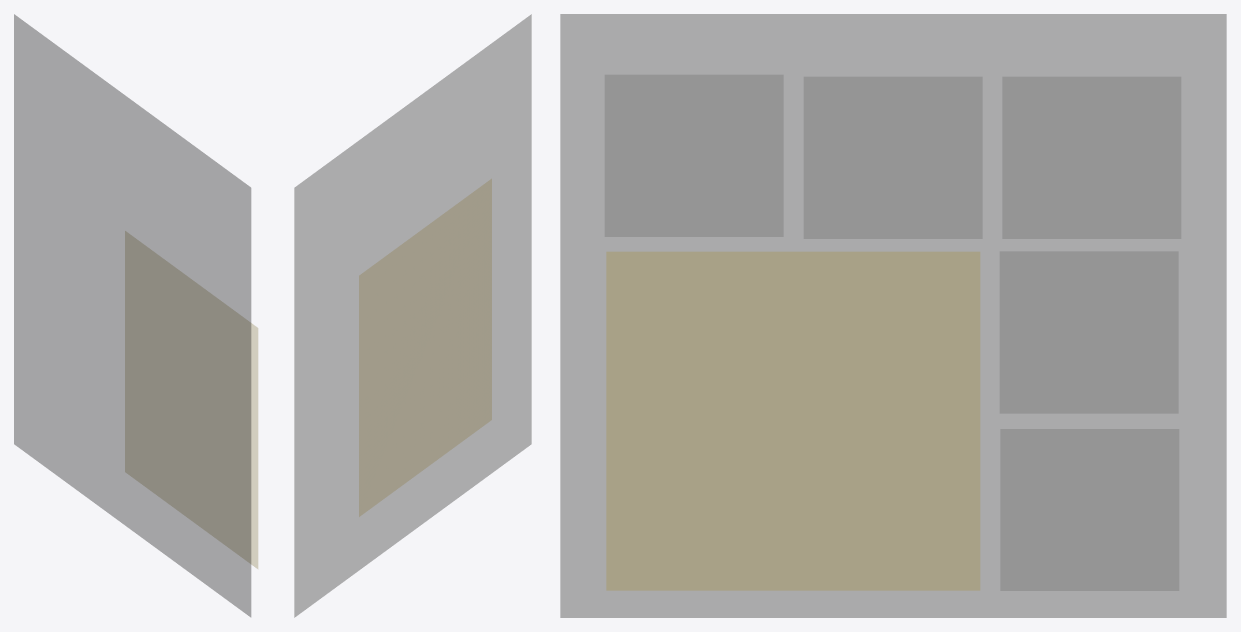
File: btn_rent2x2SouthWest.gltf
The picture shows the model from 3 angles, left to right: view 1: azimuth 30°, elevation 25°; view 2: azimuth 150°, elevation 25°; view 3: azimuth 270°, elevation 25°; orthographic projection. The views are drawn at different scales.
Parts seen in each view (by area): view 1: 1x1BgBorder.021, 22LandTile.006; view 2: 1x1BgBorder.021, 22LandTile.006; view 3: 1x1BgBorder.021, 22LandTile.006, 23LandTile.007, 13LandTile.010, 32LandTile.008, 33LandTile.010, 31LandTile.008.
Part boxes in pixels (left/top/right/bottom): 1x1BgBorder.021: left=14, top=14, right=250, bottom=616; 22LandTile.006: left=125, top=231, right=257, bottom=568; 1x1BgBorder.021: left=294, top=14, right=531, bottom=617; 22LandTile.006: left=359, top=179, right=491, bottom=515; 1x1BgBorder.021: left=560, top=14, right=1226, bottom=617; 22LandTile.006: left=606, top=252, right=979, bottom=590; 23LandTile.007: left=999, top=251, right=1178, bottom=413; 13LandTile.010: left=604, top=74, right=783, bottom=236; 32LandTile.008: left=803, top=76, right=982, bottom=238; 33LandTile.010: left=1002, top=76, right=1181, bottom=238; 31LandTile.008: left=1000, top=429, right=1179, bottom=590.
Size of what is drawn, in the model's own units: 0.0112 by 0.1984 by 0.1984.
2 materials, 1 textured.
